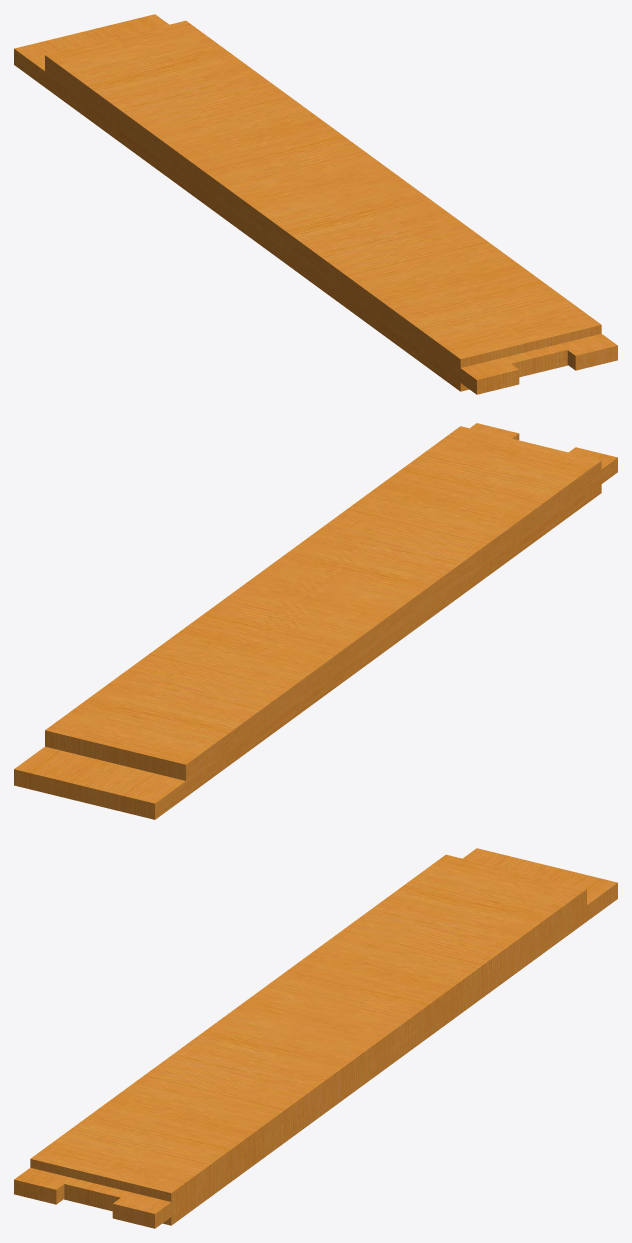
The model's file is original-40.obj.
The picture shows the model from 3 angles, top to bottom: view 1: azimuth 30°, elevation 25°; view 2: azimuth 150°, elevation 25°; view 3: azimuth 330°, elevation 25°; orthographic projection.
Parts seen in each view (by area): view 1: inner_runner_kicker2/inner_runner_kicker/mesh36/mesh36-geometry#; view 2: inner_runner_kicker2/inner_runner_kicker/mesh36/mesh36-geometry#; view 3: inner_runner_kicker2/inner_runner_kicker/mesh36/mesh36-geometry#.
Boxes of the visible parts, box(x1,y1,x2,y2) form: inner_runner_kicker2/inner_runner_kicker/mesh36/mesh36-geometry#: box(14, 14, 617, 394); inner_runner_kicker2/inner_runner_kicker/mesh36/mesh36-geometry#: box(14, 423, 617, 819); inner_runner_kicker2/inner_runner_kicker/mesh36/mesh36-geometry#: box(14, 848, 617, 1228).
Size of the model in its own units: 0.1014 by 0.0223 by 0.5762.
